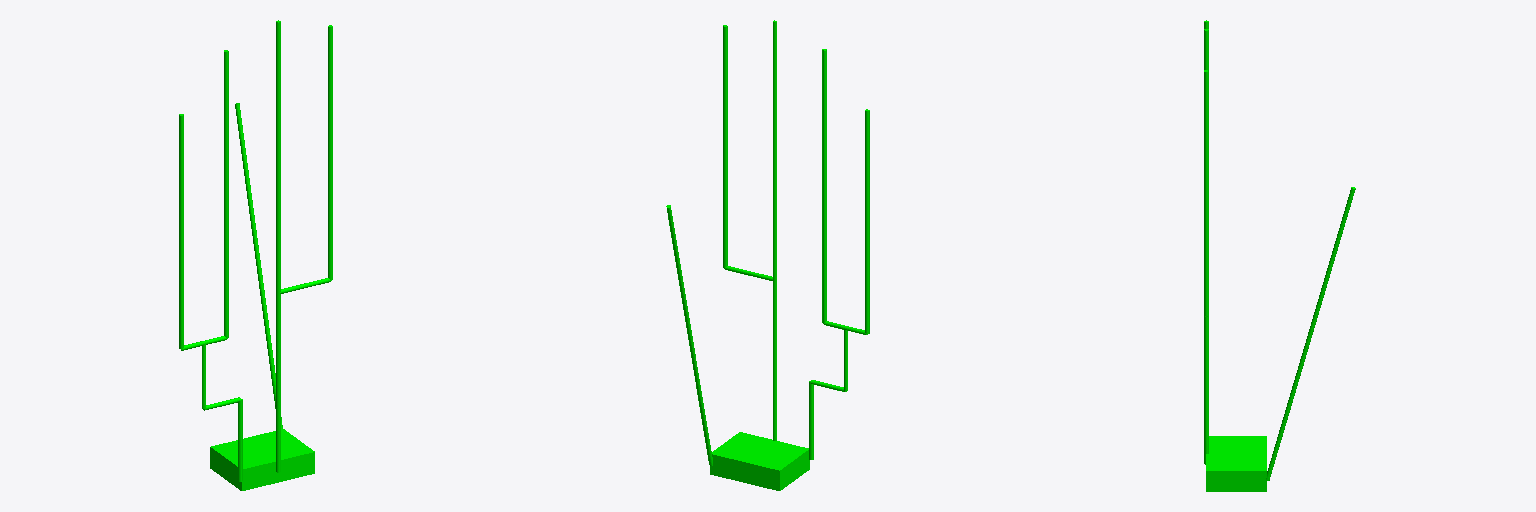
URDF robot description (s5fs):
<?xml version="1.0" ?>
<!-- =================================================================================== -->
<!-- |    This document was autogenerated by xacro from s5fs.urdf.xacro                | -->
<!-- |    EDITING THIS FILE BY HAND IS NOT RECOMMENDED                                 | -->
<!-- =================================================================================== -->
<robot name="s5fs" xmlns:xacro="http://www.ros.org/wiki/xacro">
  <!-- RIGHT HAND = 1, LEFT HAND = -1 -->
  <!-- BASE_LINE LINKS -->
  <link name="base_link">
    <visual>
      <origin rpy="0 0 0" xyz="0 0.01313 0"/>
      <geometry>
        <box size="0.0353 0.02626 0.010"/>
      </geometry>
      <material name="green">
        <color rgba="0 1 0 1"/>
      </material>
    </visual>
  </link>
  <link name="d">
    <visual>
      <origin rpy="0 0 0" xyz="0 0 0.055"/>
      <geometry>
        <cylinder length="0.110" radius="0.001"/>
      </geometry>
      <material name="green"/>
    </visual>
  </link>
  <link name="h">
    <visual>
      <origin rpy="0 1.571 0" xyz="0.0125 0 0.0825"/>
      <geometry>
        <cylinder length="0.025" radius="0.001"/>
      </geometry>
      <material name="green"/>
    </visual>
  </link>
  <link name="d2">
    <visual>
      <origin rpy="0 0 0" xyz="0.025 0 0.09625"/>
      <geometry>
        <cylinder length="0.0275" radius="0.001"/>
      </geometry>
      <material name="green"/>
    </visual>
  </link>
  <!-- LENGTH NOT FOUND IN DATASHEET! GUESSED!!! -->
  <link name="e1">
    <visual>
      <origin rpy="0 0 0" xyz="-0.0184 0 0.01875"/>
      <geometry>
        <cylinder length="0.0375" radius="0.001"/>
      </geometry>
      <material name="green"/>
    </visual>
  </link>
  <!-- LENGTH NOT FOUND IN DATASHEET! GUESSED!!! -->
  <link name="e2">
    <visual>
      <origin rpy="0 1.571 0" xyz="-0.00875 0 0"/>
      <geometry>
        <cylinder length="0.0175" radius="0.001"/>
      </geometry>
      <material name="green"/>
    </visual>
  </link>
  <!-- LENGTH NOT FOUND IN DATASHEET! GUESSED!!! -->
  <link name="e3">
    <visual>
      <origin rpy="0 0 0" xyz="-0.0175 0 0.015"/>
      <geometry>
        <cylinder length="0.03" radius="0.001"/>
      </geometry>
      <material name="green"/>
    </visual>
  </link>
  <link name="e">
    <visual>
      <origin rpy="0 1.571 0" xyz="-0.0175 0 0.03"/>
      <geometry>
        <cylinder length="0.0215" radius="0.001"/>
      </geometry>
      <material name="green"/>
    </visual>
  </link>
  <!-- LENGTH NOT FOUND IN DATASHEET! GUESSED, BUT POSITION CALCULATED: E4 = D-G-F!!! -->
  <link name="e4">
    <visual>
      <origin rpy="0 0 0" xyz="-0.02825 0 0.043"/>
      <geometry>
        <cylinder length="0.026" radius="0.001"/>
      </geometry>
      <material name="green"/>
    </visual>
  </link>
  <!-- LENGTH NOT FOUND IN DATASHEET! GUESSED, BUT POSITION CALCULATED: E5 = D-G!!! -->
  <link name="e5">
    <visual>
      <origin rpy="0 0 0" xyz="-0.00675 0 0.04775"/>
      <geometry>
        <cylinder length="0.0355" radius="0.001"/>
      </geometry>
      <material name="green"/>
    </visual>
  </link>
  <!-- THUMB LINKS -->
  <link name="z">
    <visual>
      <origin rpy="0 0 0" xyz="0 0 0.02298"/>
      <geometry>
        <cylinder length="0.04596" radius="0.001"/>
      </geometry>
      <material name="green"/>
    </visual>
  </link>
  <link name="a">
    <visual>
      <origin rpy="0 0 0" xyz="0 0 0.02425"/>
      <geometry>
        <cylinder length="0.0485" radius="0.001"/>
      </geometry>
      <material name="green"/>
    </visual>
  </link>
  <link name="b">
    <visual>
      <origin rpy="0 0 0" xyz="0 0 0.015"/>
      <geometry>
        <cylinder length="0.030" radius="0.001"/>
      </geometry>
      <material name="green"/>
    </visual>
  </link>
  <link name="c">
    <visual>
      <origin rpy="0 0 0" xyz="0 0 0.010"/>
      <geometry>
        <cylinder length="0.020" radius="0.001"/>
      </geometry>
      <material name="green"/>
    </visual>
  </link>
  <!-- FOREFINGER LINKS -->
  <link name="virtual_l">
    <visual>
      <origin rpy="0 0 0" xyz="0 0 0"/>
      <geometry>
        <cylinder length="0" radius="0"/>
      </geometry>
    </visual>
  </link>
  <link name="l">
    <visual>
      <origin rpy="0 0 0" xyz="0 0 0.02402"/>
      <geometry>
        <cylinder length="0.04804" radius="0.001"/>
      </geometry>
      <material name="green"/>
    </visual>
  </link>
  <link name="p">
    <visual>
      <origin rpy="0 0 0" xyz="0 0 0.013"/>
      <geometry>
        <cylinder length="0.026" radius="0.001"/>
      </geometry>
      <material name="green"/>
    </visual>
  </link>
  <link name="t">
    <visual>
      <origin rpy="0 0 0" xyz="0 0 0.0075"/>
      <geometry>
        <cylinder length="0.015" radius="0.001"/>
      </geometry>
      <material name="green"/>
    </visual>
  </link>
  <!-- MIDDLE FINGER LINKS -->
  <link name="k">
    <visual>
      <origin rpy="0 0 0" xyz="0 0 0.02502"/>
      <geometry>
        <cylinder length="0.05004" radius="0.001"/>
      </geometry>
      <material name="green"/>
    </visual>
  </link>
  <link name="o">
    <visual>
      <origin rpy="0 0 0" xyz="0 0 0.016"/>
      <geometry>
        <cylinder length="0.032" radius="0.001"/>
      </geometry>
      <material name="green"/>
    </visual>
  </link>
  <link name="s">
    <visual>
      <origin rpy="0 0 0" xyz="0 0 0.0075"/>
      <geometry>
        <cylinder length="0.015" radius="0.001"/>
      </geometry>
      <material name="green"/>
    </visual>
  </link>
  <!-- RING FINGER LINKS -->
  <link name="virtual_j">
    <visual>
      <origin rpy="0 0 0" xyz="0.006625 0 0"/>
      <geometry>
        <cylinder length="0" radius="0"/>
      </geometry>
    </visual>
  </link>
  <link name="j">
    <visual>
      <origin rpy="0 0 0" xyz="0 0 0.02502"/>
      <geometry>
        <cylinder length="0.05004" radius="0.001"/>
      </geometry>
      <material name="green"/>
    </visual>
  </link>
  <link name="n">
    <visual>
      <origin rpy="0 0 0" xyz="0 0 0.01525"/>
      <geometry>
        <cylinder length="0.032" radius="0.001"/>
      </geometry>
      <material name="green"/>
    </visual>
  </link>
  <link name="r">
    <visual>
      <origin rpy="0 0 0" xyz="0 0 0.00675"/>
      <geometry>
        <cylinder length="0.015" radius="0.001"/>
      </geometry>
      <material name="green"/>
    </visual>
  </link>
  <!-- LITTLE FINGER LINKS -->
  <link name="virtual_i">
    <visual>
      <origin rpy="0 0 0" xyz="0.02825 0 0"/>
      <geometry>
        <cylinder length="0" radius="0"/>
      </geometry>
    </visual>
  </link>
  <link name="i">
    <visual>
      <origin rpy="0 0 0" xyz="0 0 0.02227"/>
      <geometry>
        <cylinder length="0.04454" radius="0.001"/>
      </geometry>
      <material name="green"/>
    </visual>
  </link>
  <link name="m">
    <visual>
      <origin rpy="0 0 0" xyz="0 0 0.011"/>
      <geometry>
        <cylinder length="0.022" radius="0.001"/>
      </geometry>
      <material name="green"/>
    </visual>
  </link>
  <link name="q">
    <visual>
      <origin rpy="0 0 0" xyz="0 0 0.0075"/>
      <geometry>
        <cylinder length="0.015" radius="0.001"/>
      </geometry>
      <material name="green"/>
    </visual>
  </link>
  <!-- BASE_LINE JOINTS -->
  <joint name="j1_wrist" type="revolute">
    <parent link="base_link"/>
    <child link="z"/>
    <limit effort="1000.0" lower="0.0" upper="0.9879" velocity="1"/>
    <origin rpy="0 0.2618 1.571" xyz="0.0169 0.02626 0"/>
    <axis xyz="0 0 1.0"/>
  </joint>
  <!-- JOINT NOT FOR BASE_LINE. BUT WRITTEN DOWN HERE FOR BETTER UX -->
  <joint name="j6b_spread" type="revolute">
    <parent link="virtual_l"/>
    <child link="l"/>
    <limit effort="1000.0" lower="0.0" upper="0.28833" velocity="1"/>
    <origin rpy="0 0 0" xyz="0 0 0"/>
    <axis xyz="0 1.0 0"/>
  </joint>
  <joint name="f1" type="fixed">
    <parent link="base_link"/>
    <child link="d"/>
    <origin rpy="0 0 0" xyz="0 0 0"/>
  </joint>
  <joint name="f2" type="fixed">
    <parent link="d"/>
    <child link="h"/>
    <origin rpy="0 0 0" xyz="0 0 0"/>
  </joint>
  <joint name="f3" type="fixed">
    <parent link="h"/>
    <child link="d2"/>
    <origin rpy="0 0 0" xyz="0 0 0"/>
  </joint>
  <joint name="f4" type="fixed">
    <parent link="base_link"/>
    <child link="e1"/>
    <origin rpy="0 0 0" xyz="0 0 0"/>
  </joint>
  <joint name="j5" type="revolute">
    <parent link="e1"/>
    <child link="e2"/>
    <limit effort="1000.0" lower="0.0" upper="0.98786" velocity="1"/>
    <origin rpy="0 0 0" xyz="-0.0184 0 0.0375"/>
    <axis xyz="0 0 -1.0"/>
    <mimic joint="j1_wrist" multiplier="1" offset="0"/>
  </joint>
  <joint name="f5" type="fixed">
    <parent link="e2"/>
    <child link="e3"/>
    <origin rpy="0 0 0" xyz="0 0 0"/>
  </joint>
  <joint name="f6" type="fixed">
    <parent link="e3"/>
    <child link="e"/>
    <origin rpy="0 0 0" xyz="0 0 0"/>
  </joint>
  <joint name="f7" type="fixed">
    <parent link="e"/>
    <child link="e4"/>
    <origin rpy="0 0 0" xyz="0 0 0"/>
  </joint>
  <joint name="f8" type="fixed">
    <parent link="e"/>
    <child link="e5"/>
    <origin rpy="0 0 0" xyz="0 0 0"/>
  </joint>
  <!-- THUMB JOINTS -->
  <joint name="j2_thumb" type="revolute">
    <parent link="z"/>
    <child link="a"/>
    <limit effort="1000.0" lower="0.0" upper="0.9704" velocity="1"/>
    <origin rpy="0 0 0" xyz="0 0 0.04596"/>
    <axis xyz="-1.0 0 0"/>
  </joint>
  <joint name="j3" type="revolute">
    <parent link="a"/>
    <child link="b"/>
    <limit effort="1000.0" lower="0.0" upper="0.98506" velocity="1"/>
    <origin rpy="0 0 0" xyz="0 0 0.0485"/>
    <axis xyz="-1.0 0 0"/>
    <mimic joint="j2_thumb" multiplier="1.01511" offset="0"/>
  </joint>
  <joint name="j4" type="revolute">
    <parent link="b"/>
    <child link="c"/>
    <limit effort="1000.0" lower="0.0" upper="1.406" velocity="1"/>
    <origin rpy="0 0 0" xyz="0 0 0.030"/>
    <axis xyz="-1.0 0 0"/>
    <mimic joint="j2_thumb" multiplier="1.44889" offset="0"/>
  </joint>
  <!-- FOREFINGER JOINTS -->
  <joint name="j6a_forefinger1" type="revolute">
    <parent link="d2"/>
    <child link="virtual_l"/>
    <limit effort="1000.0" lower="0.0" upper="0.79849" velocity="1"/>
    <origin rpy="0 0 0" xyz="0.025 0 0.110"/>
    <axis xyz="-1 0 0"/>
  </joint>
  <!-- JOINT j6b_spread in BASE_LINE section for better UX -->
  <joint name="j10_forefinger2" type="revolute">
    <parent link="l"/>
    <child link="p"/>
    <limit effort="1000.0" lower="0" upper="1.334" velocity="1"/>
    <origin rpy="0 0 0" xyz="0 0 0.04804"/>
    <axis xyz="-1 0 0"/>
  </joint>
  <joint name="j14" type="revolute">
    <parent link="p"/>
    <child link="t"/>
    <limit effort="1000.0" lower="0" upper="1.394" velocity="1"/>
    <origin rpy="0 0 0" xyz="0 0 0.026"/>
    <axis xyz="-1 0 0"/>
    <mimic joint="j10_forefinger2" multiplier="1.0450" offset="0"/>
  </joint>
  <!-- MIDDLE FINGER JOINTS -->
  <joint name="j7_middlefinger1" type="revolute">
    <parent link="d"/>
    <child link="k"/>
    <limit effort="1000.0" lower="0.0" upper="0.79849" velocity="1"/>
    <origin rpy="0 0 0" xyz="0 0 0.110"/>
    <axis xyz="-1 0 0"/>
  </joint>
  <joint name="j11_middlefinger2" type="revolute">
    <parent link="k"/>
    <child link="o"/>
    <limit effort="1000.0" lower="0" upper="1.334" velocity="1"/>
    <origin rpy="0 0 0" xyz="0 0 0.05004"/>
    <axis xyz="-1 0 0"/>
  </joint>
  <joint name="j15" type="revolute">
    <parent link="o"/>
    <child link="s"/>
    <limit effort="1000.0" lower="0" upper="1.334" velocity="1"/>
    <origin rpy="0 0 0" xyz="0 0 0.032"/>
    <axis xyz="-1 0 0"/>
    <mimic joint="j11_middlefinger2" multiplier="1.000" offset="0"/>
  </joint>
  <!-- RING FINGER JOINTS -->
  <joint name="j8a_ringfinger" type="revolute">
    <parent link="e5"/>
    <child link="virtual_j"/>
    <limit effort="1000.0" lower="0.0" upper="0.98175" velocity="1"/>
    <origin rpy="0 0 0" xyz="0 0 0.0655"/>
    <axis xyz="-1 0 0"/>
  </joint>
  <joint name="j8b" type="revolute">
    <parent link="virtual_j"/>
    <child link="j"/>
    <limit effort="1000.0" lower="0.0" upper="0.28833" velocity="1"/>
    <origin rpy="0 0 0" xyz="-0.00675 0 0"/>
    <axis xyz="0 -1.0 0"/>
    <mimic joint="j6b_spread" multiplier="1" offset="0"/>
  </joint>
  <joint name="j12" type="revolute">
    <parent link="j"/>
    <child link="n"/>
    <limit effort="1000.0" lower="0" upper="1.334" velocity="1"/>
    <origin rpy="0 0 0" xyz="0 0 0.05004"/>
    <axis xyz="-1 0 0"/>
    <mimic joint="j8a_ringfinger" multiplier="1.3588" offset="0"/>
  </joint>
  <joint name="j16" type="revolute">
    <parent link="n"/>
    <child link="r"/>
    <limit effort="1000.0" lower="0" upper="1.395" velocity="1"/>
    <origin rpy="0 0 0" xyz="0 0 0.032"/>
    <axis xyz="-1 0 0"/>
    <mimic joint="j8a_ringfinger" multiplier="1.42093" offset="0"/>
  </joint>
  <!-- LITTLE FINGER JOINTS -->
  <joint name="j9a_littlefinger" type="revolute">
    <parent link="e4"/>
    <child link="virtual_i"/>
    <limit effort="1000.0" lower="0.0" upper="0.98175" velocity="1"/>
    <origin rpy="0 0 0" xyz="0 0 0.056"/>
    <axis xyz="-1 0 0"/>
  </joint>
  <joint name="j9b" type="revolute">
    <parent link="virtual_i"/>
    <child link="i"/>
    <limit effort="1000.0" lower="0.0" upper="0.5829" velocity="1"/>
    <origin rpy="0 0 0" xyz="-0.02825 0 0"/>
    <axis xyz="0 -1.0 0"/>
    <mimic joint="j6b_spread" multiplier="2.02164" offset="0"/>
  </joint>
  <joint name="j13" type="revolute">
    <parent link="i"/>
    <child link="m"/>
    <limit effort="1000.0" lower="0" upper="1.334" velocity="1"/>
    <origin rpy="0 0 0" xyz="0 0 0.04454"/>
    <axis xyz="-1 0 0"/>
    <mimic joint="j9a_littlefinger" multiplier="1.35880" offset="0"/>
  </joint>
  <joint name="j17" type="revolute">
    <parent link="m"/>
    <child link="q"/>
    <limit effort="1000.0" lower="0" upper="1.3971" velocity="1"/>
    <origin rpy="0 0 0" xyz="0 0 0.022"/>
    <axis xyz="-1 0 0"/>
    <mimic joint="j9a_littlefinger" multiplier="1.42307" offset="0"/>
  </joint>
</robot>

--- Render facts (derived) ---
3 views of the same robot in one strip: view 1: azimuth 30°, elevation 25°; view 2: azimuth 150°, elevation 25°; view 3: azimuth 270°, elevation 25° (orthographic).
Robot: s5fs — 29 links, 28 joints (20 revolute, 8 fixed); root link base_link; default pose: all joints at 0.
Links seen in each view (by area): view 1: base_link, d, k, j, a; view 2: base_link, d; view 3: base_link, d.
Link boxes in pixels (x1=…): base_link: x1=210, y1=429, x2=314, y2=490; d: x1=276, y1=233, x2=280, y2=472; k: x1=276, y1=124, x2=280, y2=233; j: x1=224, y1=152, x2=228, y2=260; a: x1=251, y1=220, x2=269, y2=333; base_link: x1=710, y1=432, x2=809, y2=490; d: x1=773, y1=223, x2=776, y2=440; base_link: x1=1206, y1=436, x2=1266, y2=491; d: x1=1204, y1=316, x2=1208, y2=464.
Size in the robot's own frame: 0.0737 by 0.0656 by 0.212 metres.
Geometry: primitives only (box / cylinder / sphere), no mesh files.
